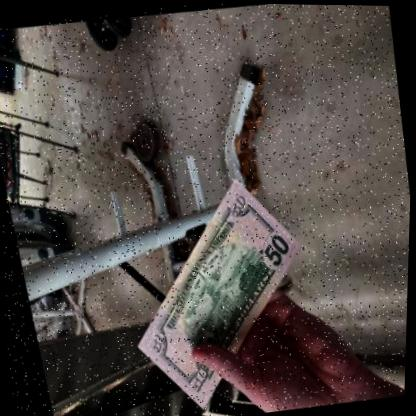fifty-back: (131, 175, 298, 408)
